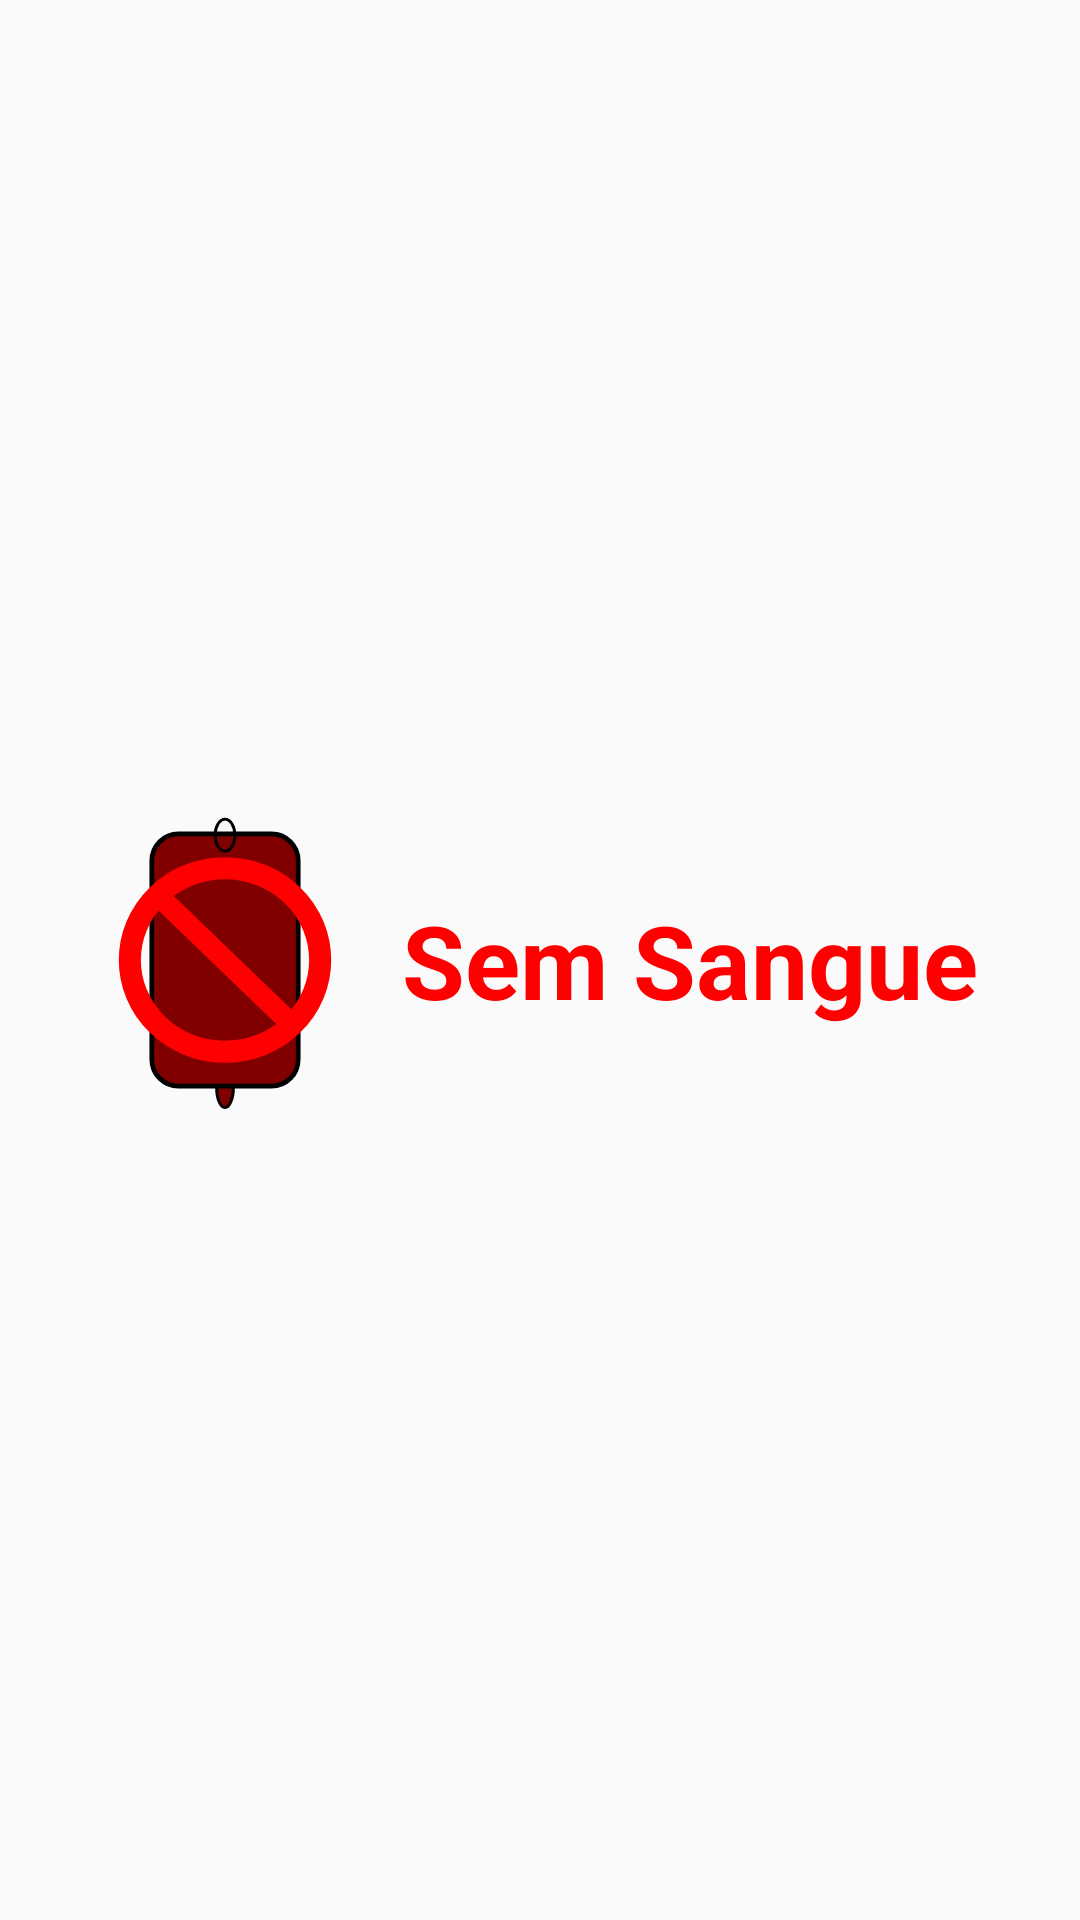

Icons on this 1080x1920 Android screen, each with its box as (x1, y1, x2, y2):
Imagem Proibido Tranfusão de Sangue: (118, 817, 332, 1109)
